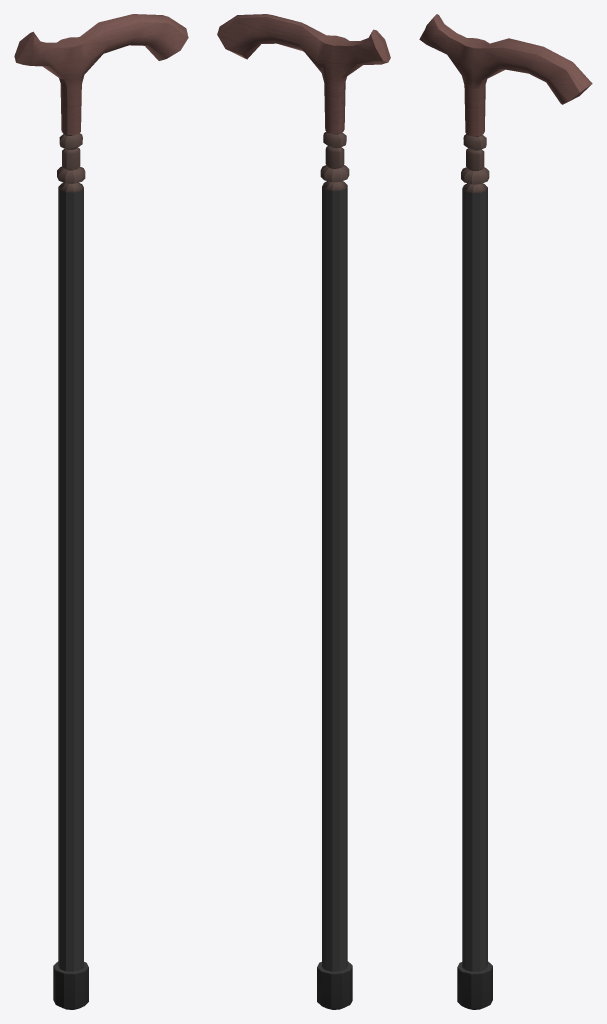
File: gentlemansCane.fbx
The picture shows the model from 3 angles, left to right: view 1: azimuth 30°, elevation 25°; view 2: azimuth 150°, elevation 25°; view 3: azimuth 330°, elevation 25°; orthographic projection.
Parts seen in each view (by area): view 1: walkingcane; view 2: walkingcane; view 3: walkingcane.
Boxes of the visible parts, <box> form: walkingcane: <box>14,14,188,1009</box>; walkingcane: <box>217,14,390,1009</box>; walkingcane: <box>419,14,592,1009</box>.
Bounding box in the file's own units: 1.29 × 7.16 × 0.2247.
1 material, 1 textured.
